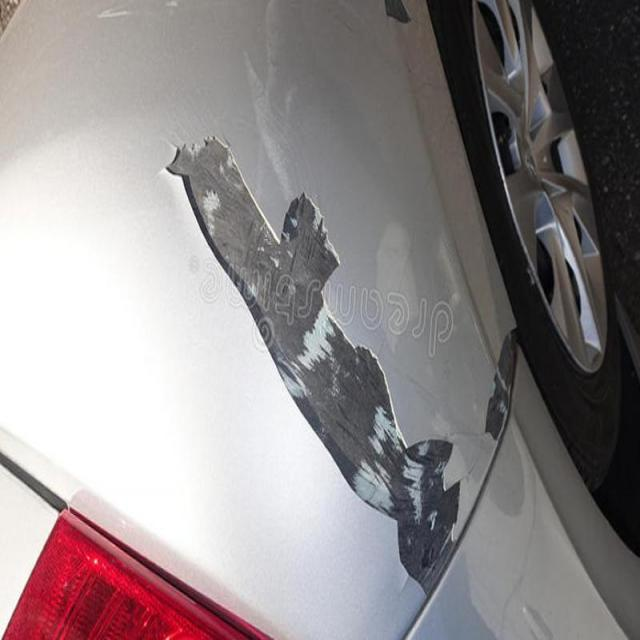scratch: (132, 122, 571, 597)
